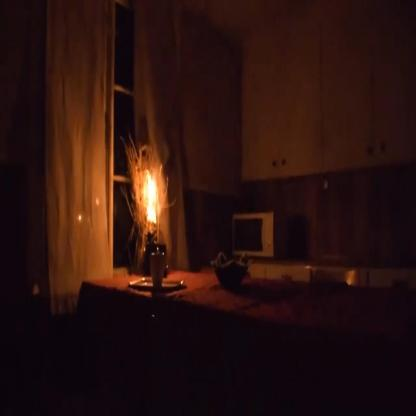fire: (142, 164, 165, 233)
